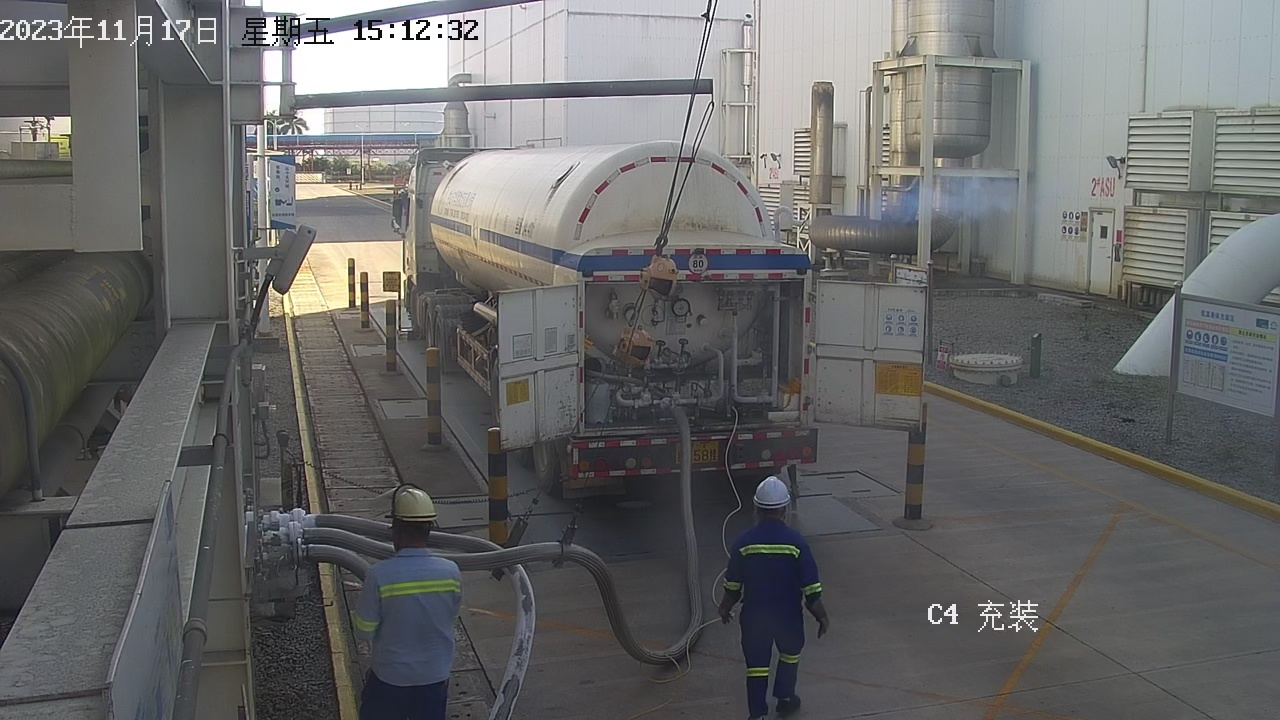Head_with_Helmet: (358, 471, 456, 558), (734, 468, 806, 535)
Uniform: (711, 514, 847, 720), (335, 535, 477, 720)
